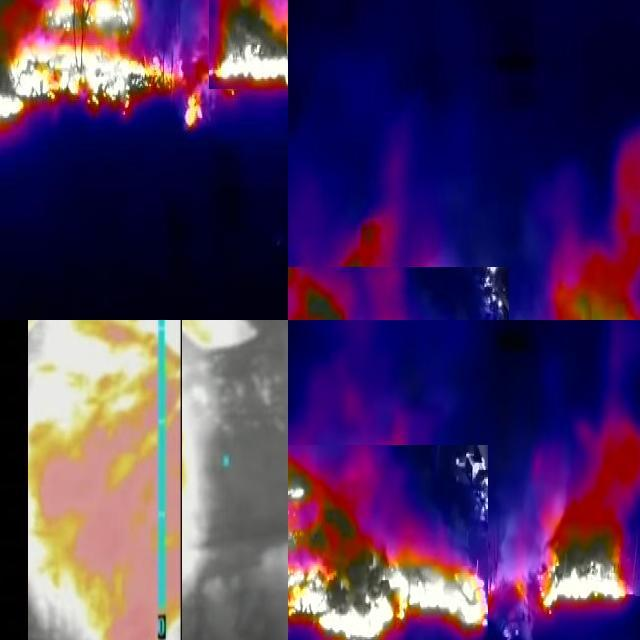fire: (28, 321, 182, 640), (289, 444, 488, 640), (1, 1, 204, 135), (494, 478, 639, 626), (209, 1, 289, 89), (514, 270, 640, 321)
